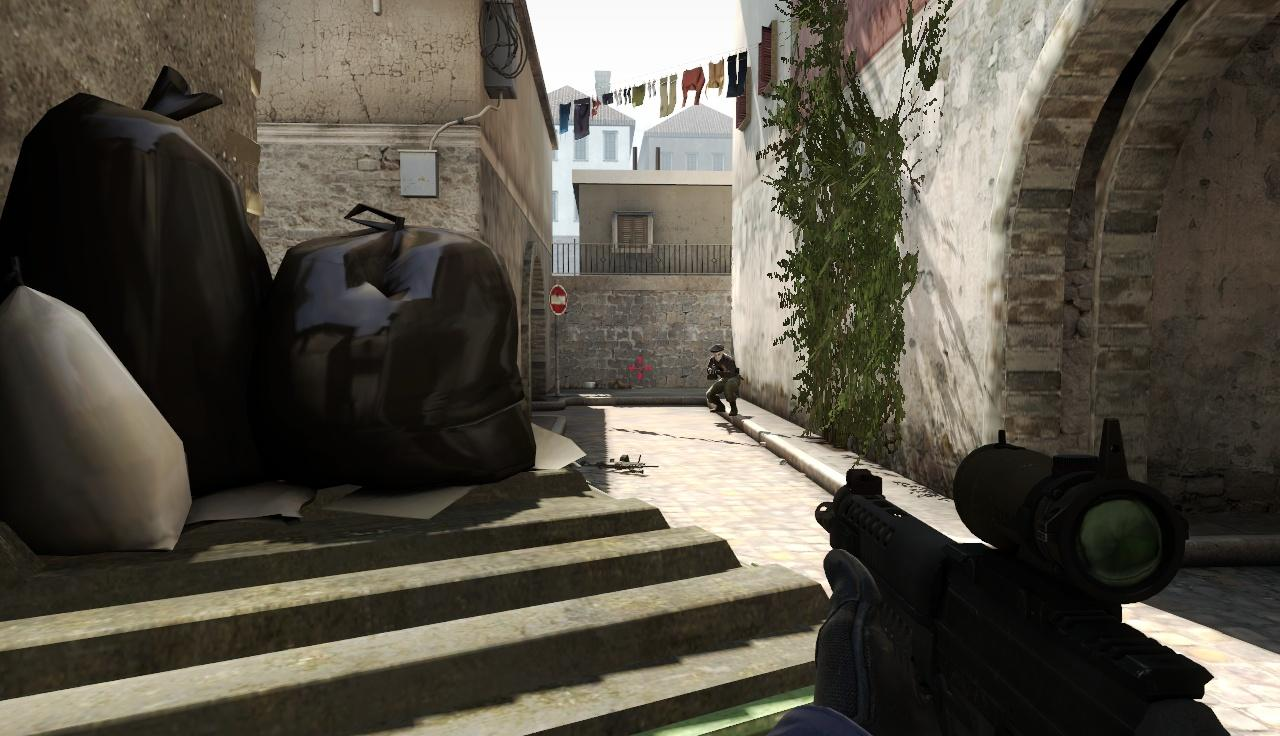rifle: (809, 422, 1280, 736)
tt: (706, 344, 742, 416)
tthead: (712, 345, 724, 361)
